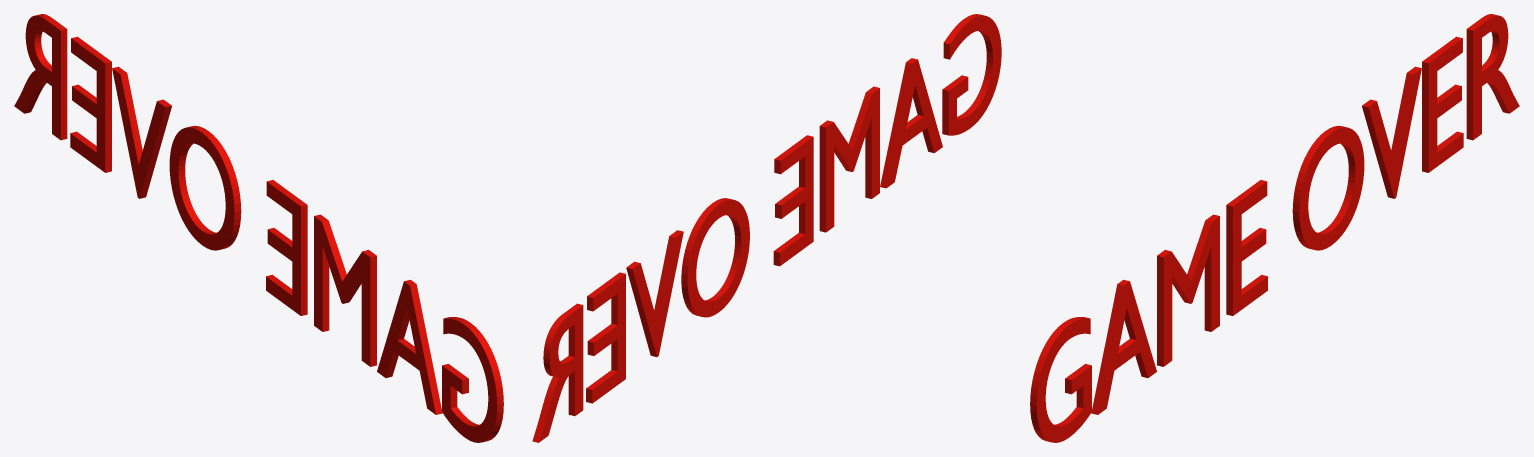
The model's file is gameover.fbx.
The picture shows the model from 3 angles, left to right: view 1: azimuth 30°, elevation 25°; view 2: azimuth 150°, elevation 25°; view 3: azimuth 330°, elevation 25°; orthographic projection. The views are drawn at different scales.
Visible parts, largest first — view 1: Text; view 2: Text; view 3: Text.
Part boxes in pixels (left/top/right/bottom): Text: left=14, top=14, right=503, bottom=442; Text: left=532, top=14, right=1001, bottom=442; Text: left=1030, top=14, right=1519, bottom=442.
Bounding box in the file's own units: 4.33 × 70 × 545.
